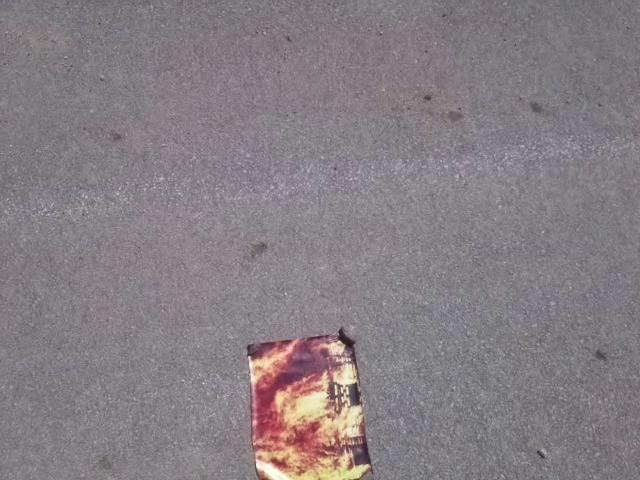fire-poster: (244, 326, 375, 479)
